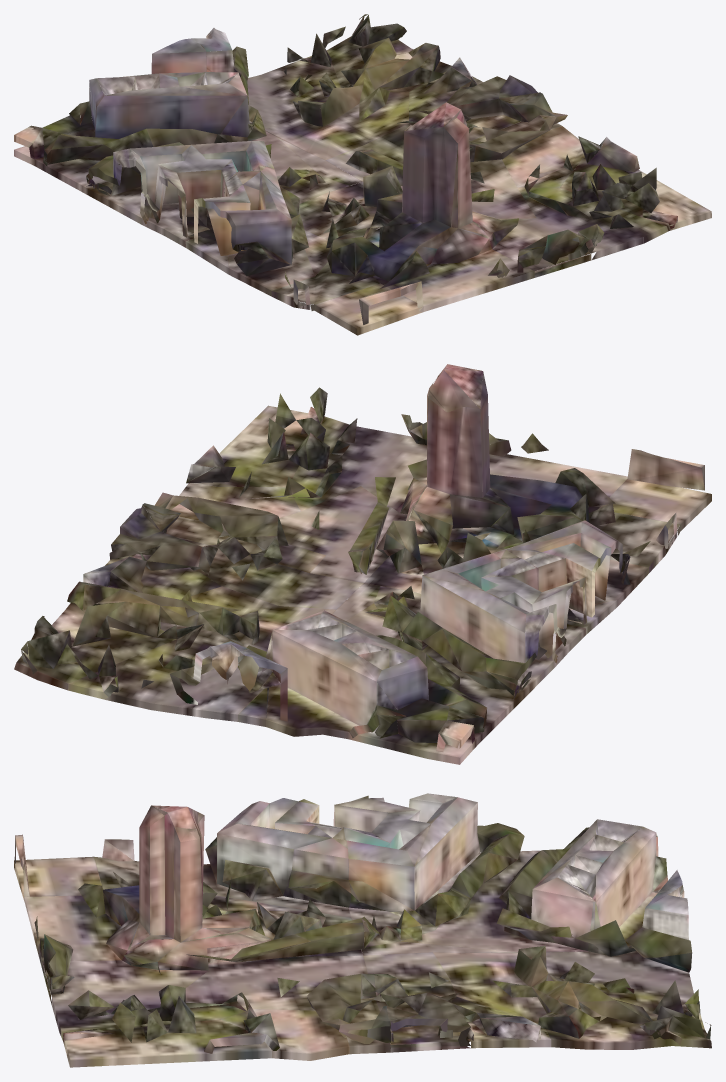
3 renders of one model, top to bottom at view 1: azimuth 30°, elevation 25°; view 2: azimuth 150°, elevation 25°; view 3: azimuth 270°, elevation 25°, orthographic. The views are drawn at different scales.
Parts seen in each view (by area): view 1: Mesh_0; view 2: Mesh_0; view 3: Mesh_0.
Part boxes in pixels (left/top/right/bottom): Mesh_0: left=14, top=14, right=711, bottom=335; Mesh_0: left=14, top=364, right=711, bottom=764; Mesh_0: left=14, top=793, right=711, bottom=1067.
Bounding box in the file's own units: 266 × 90.27 × 330.
Materials: 2 (2 with a texture image).
